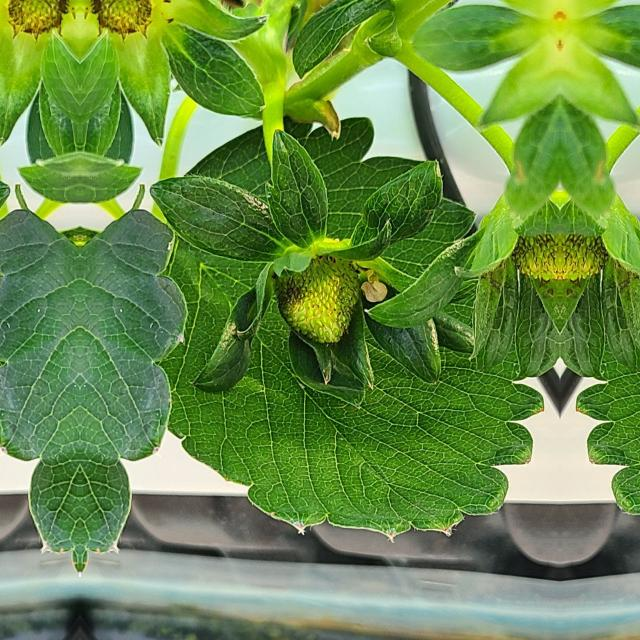Health_25: (278, 255, 358, 342), (506, 216, 560, 294), (560, 216, 614, 294), (80, 0, 174, 38), (0, 0, 80, 38)
